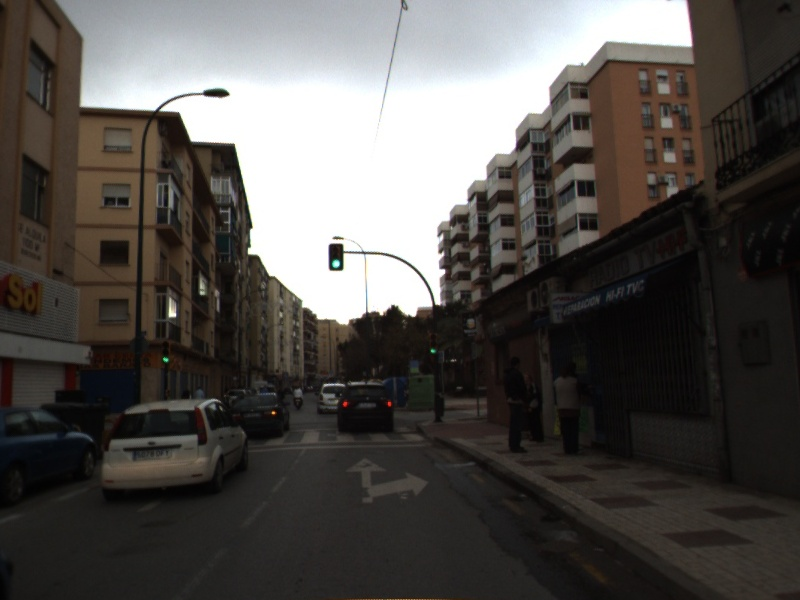STRAIGHT_RIGHT: (343, 456, 432, 506)
